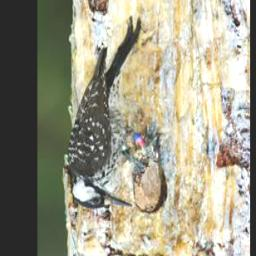Woodpecker: (66, 18, 159, 210)
